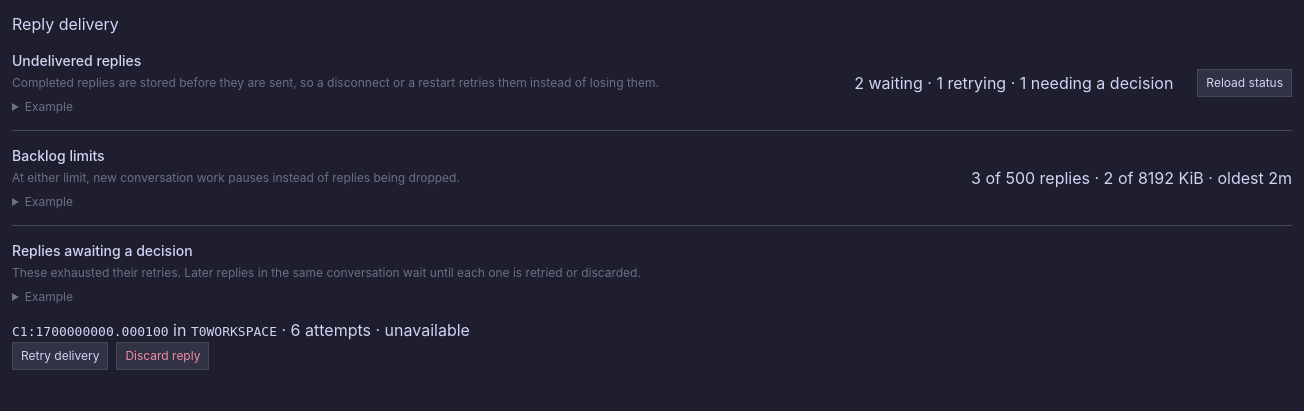
Test: reports a failed control without pretending the decision was applied
expect the text "C1:1700000000.000100" is shown: met, box [12,324,168,339]
Click the button "Discard reply".
click(163, 356)  # box [116,342,209,370]
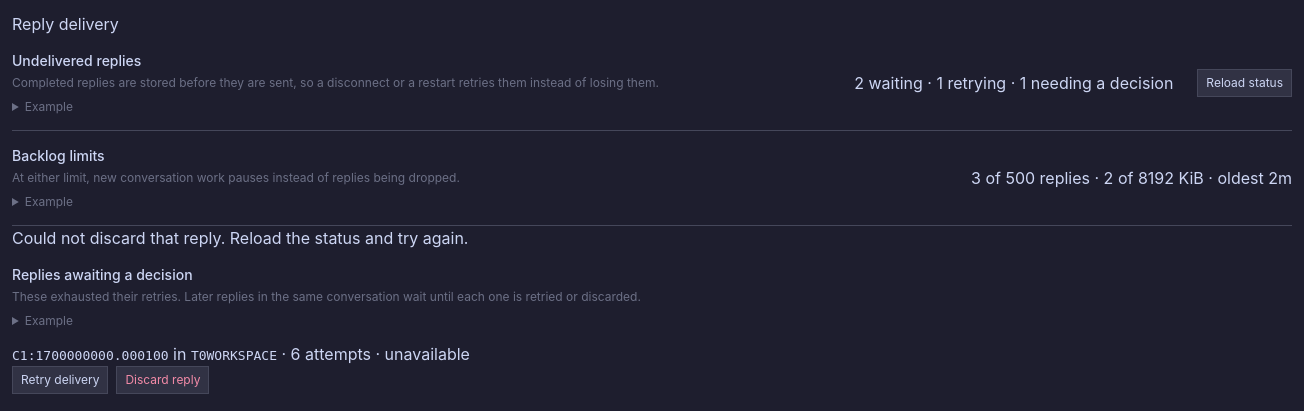
expect the text "C1:1700000000.000100" is shown: met, box [12,348,168,363]
expect the message shows "Could not discard that reply": met, box [12,228,468,248]
